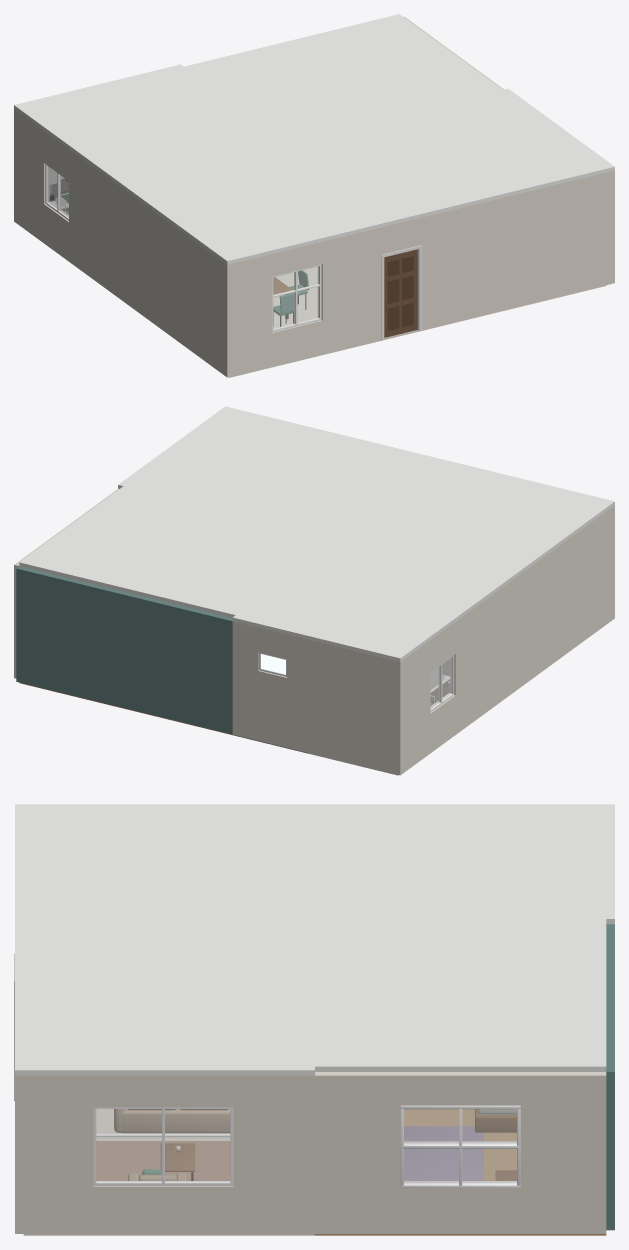
File: room.glb
3 views of the same model, one above another, from view 1: azimuth 30°, elevation 25°; view 2: azimuth 150°, elevation 25°; view 3: azimuth 270°, elevation 25° (orthographic). The views are drawn at different scales.
Parts seen in each view (by area): view 1: Ceiling_A, Ceiling_B, Ceiling, Wall_Ext_Front_5, Wall_Ext_Left_0, Wall_Ext_Front_3, Wall_Ext_Front_0, Wall_Ext_Left_3, Window_Glass_Dining, Floor_Sitting, Wall_Ext_Front_1, Front_Door_Panels (+8 smaller); view 2: Ceiling_A, Wall_Back, Ceiling_B, Ceiling, Wall_Ext_Left_0, Wall_Ext_Back_0, Wall_Ext_Left_3, Wall_Ext_Back_3, Wall_Ext_Back_1, Wall_Ext_Left_1, Wall_Ext_Left_2, Wall_Ext_Back_2 (+2 smaller); view 3: Ceiling_A, Ceiling_B, Ceiling, Wall_R_b, Wall_R_a, Wall_Ext_Right_3, Wall_Ext_Right_0, Window_Glass_Sitting, Window_Glass, Wall_Ext_Right_1, Wall_R_low, Wall_Ext_Right_2 (+14 smaller).
Boxes of the visible parts, box(x1,y1,x2,y2) form: Ceiling_A: box(14, 64, 394, 264); Ceiling_B: box(288, 88, 614, 224); Ceiling: box(184, 14, 502, 142); Wall_Ext_Front_5: box(419, 171, 614, 329); Wall_Ext_Left_0: box(69, 149, 224, 374); Wall_Ext_Front_3: box(321, 227, 383, 354); Wall_Ext_Front_0: box(224, 254, 272, 377); Wall_Ext_Left_3: box(17, 111, 49, 242); Window_Glass_Dining: box(273, 266, 318, 328); Floor_Sitting: box(229, 267, 606, 377); Wall_Ext_Front_1: box(272, 320, 322, 366); Front_Door_Panels: box(387, 255, 413, 330); Ceiling_A: box(232, 460, 614, 661); Wall_Back: box(16, 566, 232, 734); Ceiling_B: box(118, 406, 446, 538); Ceiling: box(19, 486, 339, 617); Wall_Ext_Left_0: box(450, 507, 611, 734); Wall_Ext_Back_0: box(287, 634, 403, 775); Wall_Ext_Left_3: box(403, 640, 430, 772); Wall_Ext_Back_3: box(232, 621, 258, 740); Wall_Ext_Back_1: box(258, 670, 286, 747); Wall_Ext_Left_1: box(430, 695, 455, 752); Wall_Ext_Left_2: box(430, 622, 455, 671); Wall_Ext_Back_2: box(258, 627, 286, 658); Ceiling_A: box(15, 804, 614, 924); Ceiling_B: box(15, 919, 314, 1075); Ceiling: box(315, 919, 606, 1071); Wall_R_b: box(519, 1072, 606, 1233); Wall_R_a: box(315, 1072, 402, 1233); Wall_Ext_Right_3: box(233, 1075, 314, 1233); Wall_Ext_Right_0: box(15, 1075, 93, 1233); Window_Glass_Sitting: box(96, 1109, 229, 1181); Window_Glass: box(404, 1109, 516, 1182); Wall_Ext_Right_1: box(93, 1185, 233, 1233); Wall_R_low: box(402, 1188, 518, 1233); Wall_Ext_Right_2: box(93, 1075, 233, 1107).
Size of the model in its own units: 10.82 by 3.2 by 10.31.
